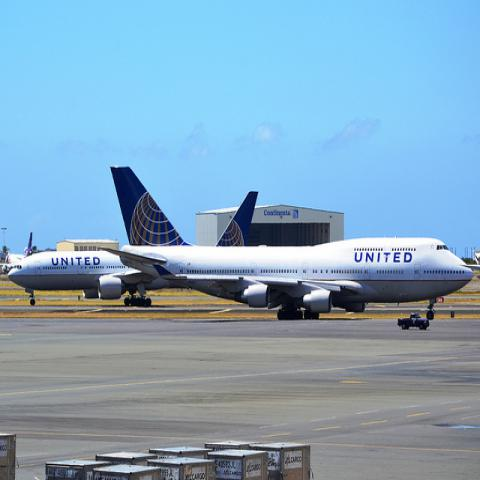truck: (397, 310, 430, 330)
